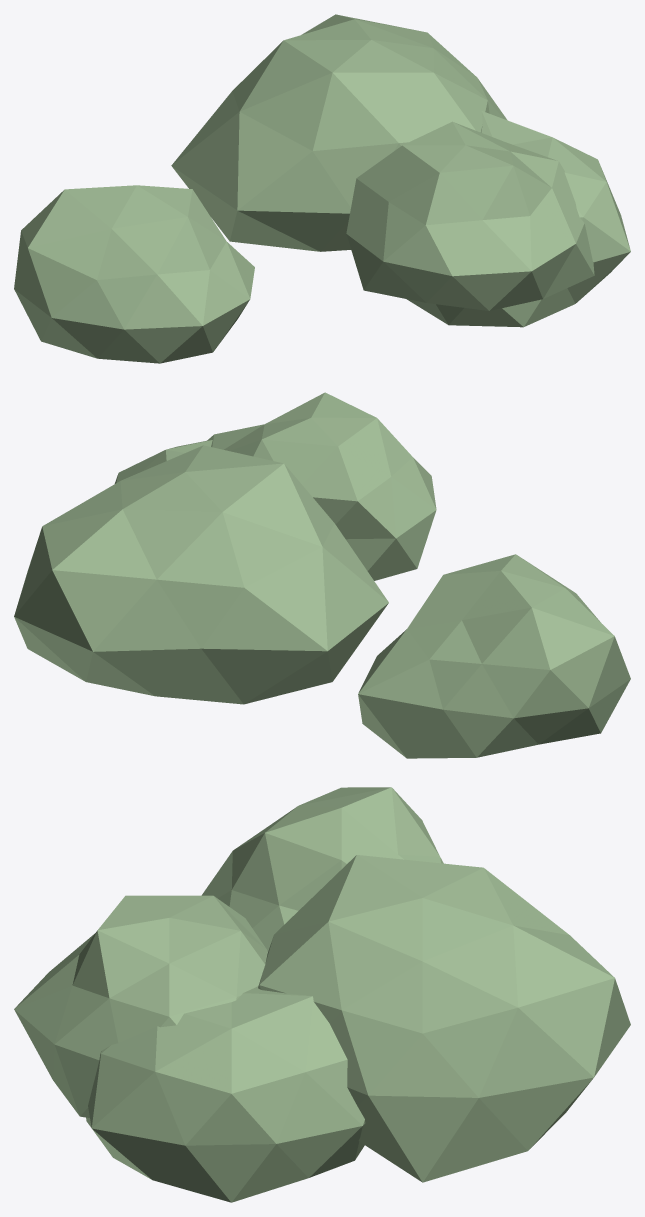
Rendered from isl_shrub_a.fbx.
3 views of the same model, one above another, from view 1: azimuth 30°, elevation 25°; view 2: azimuth 150°, elevation 25°; view 3: azimuth 270°, elevation 25° (orthographic). The views are drawn at different scales.
Visible parts, largest first — view 1: isl_shrub_a; view 2: isl_shrub_a; view 3: isl_shrub_a.
Part boxes in pixels (x1=…): isl_shrub_a: x1=14, y1=14, x2=630, y2=363; isl_shrub_a: x1=14, y1=392, x2=630, y2=758; isl_shrub_a: x1=14, y1=787, x2=630, y2=1202.
Bounding box in the file's own units: 0.879 × 0.3261 × 0.7578.
